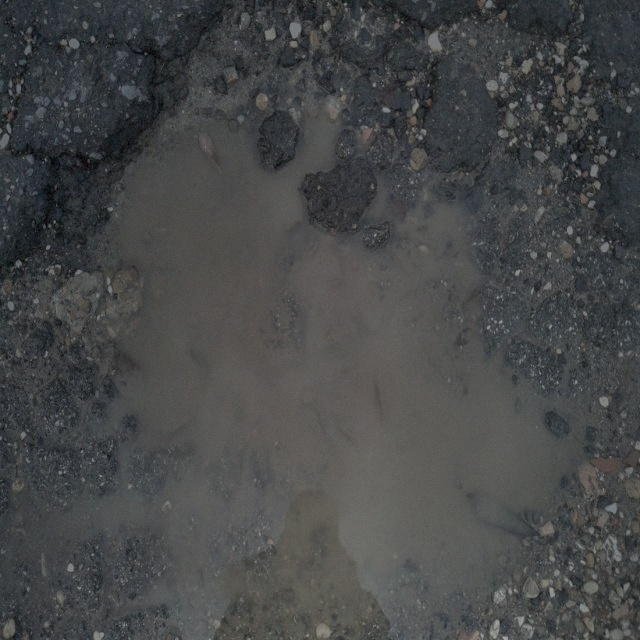pothole: (70, 39, 586, 574)
